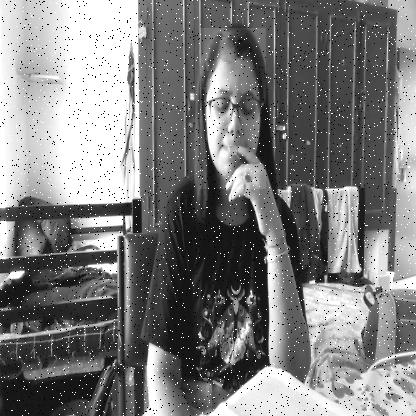Normal: (200, 28, 266, 189)
